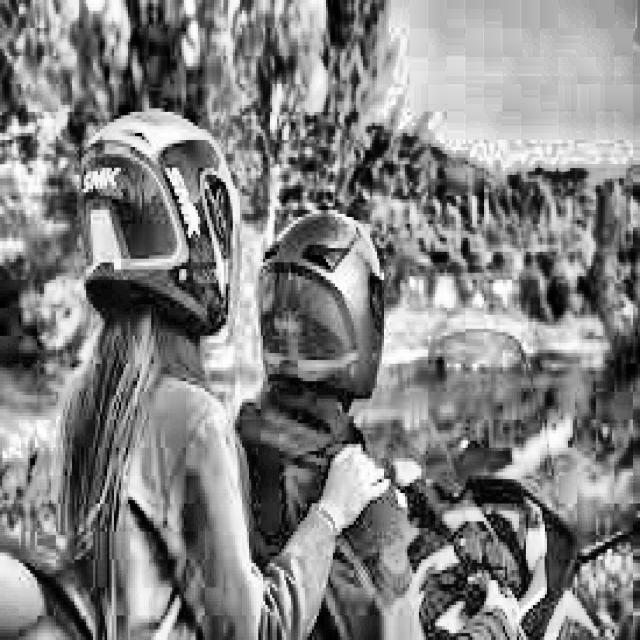Helmet: (74, 112, 250, 338), (258, 203, 384, 410)
